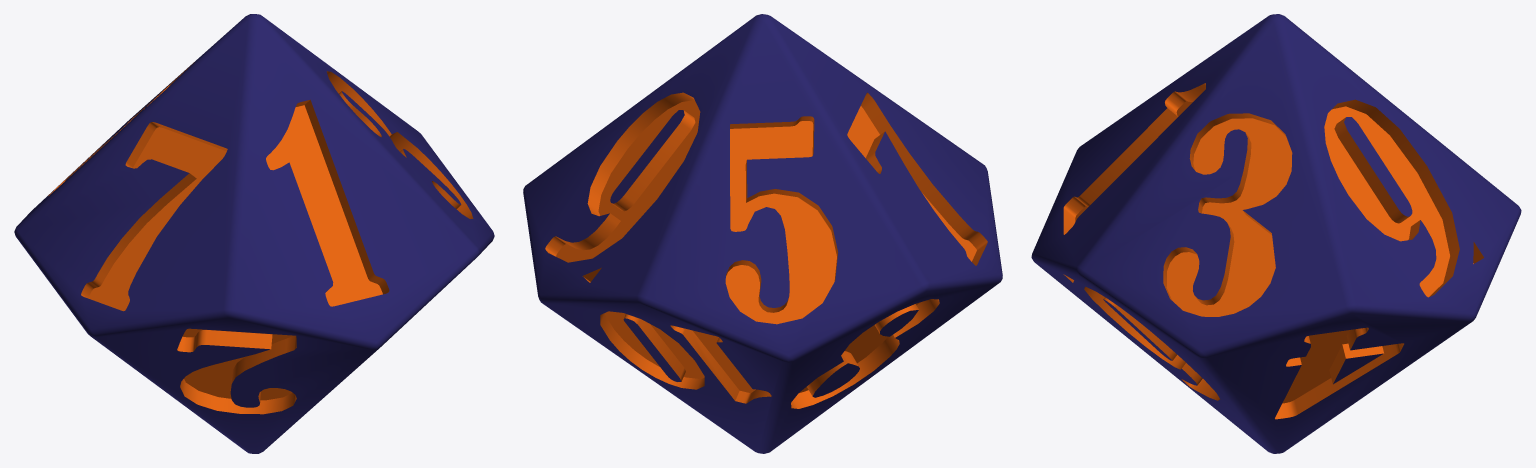
The model's file is dice10a.glb.
3 views of the same model, side by side, from view 1: azimuth 30°, elevation 25°; view 2: azimuth 150°, elevation 25°; view 3: azimuth 270°, elevation 25° (orthographic).
Parts seen in each view (by area): view 1: A, B; view 2: A, B; view 3: A, B.
Boxes of the visible parts, x1,y1,x2,y2 form: A: (14,14,494,453); B: (48,62,473,414); A: (523,14,1002,453); B: (545,92,987,408); A: (1031,14,1521,453); B: (1063,83,1483,419).
Bounding box in the file's own units: 7.33 × 7.6 × 7.68.
